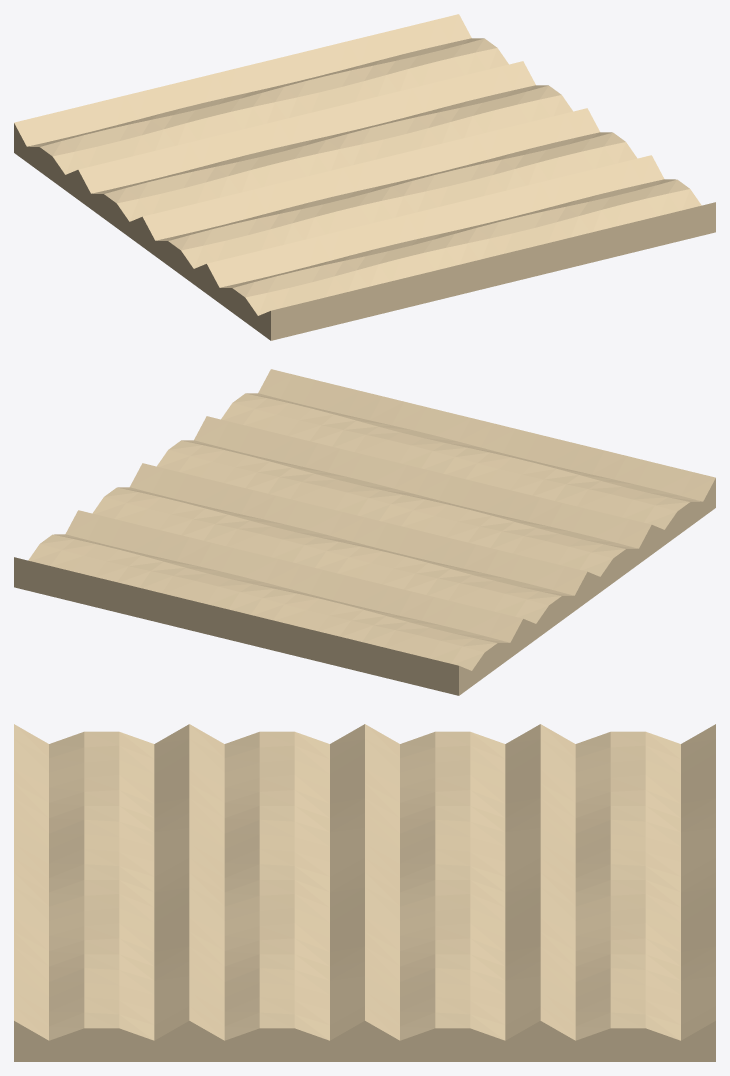
Rendered from desert-canyons-and-oases-sand-ripple-tile-ba398e0f__20950.glb.
3 views of the same model, one above another, from view 1: azimuth 30°, elevation 25°; view 2: azimuth 150°, elevation 25°; view 3: azimuth 270°, elevation 25° (orthographic). The views are drawn at different scales.
Visible parts, largest first — view 1: sand-ripple-tile; view 2: sand-ripple-tile; view 3: sand-ripple-tile.
Boxes of the visible parts, x1,y1,x2,y2 form: sand-ripple-tile: (14, 14, 715, 340); sand-ripple-tile: (14, 369, 715, 695); sand-ripple-tile: (14, 724, 715, 1061).
Bounding box in the file's own units: 4 × 0.2598 × 4.
